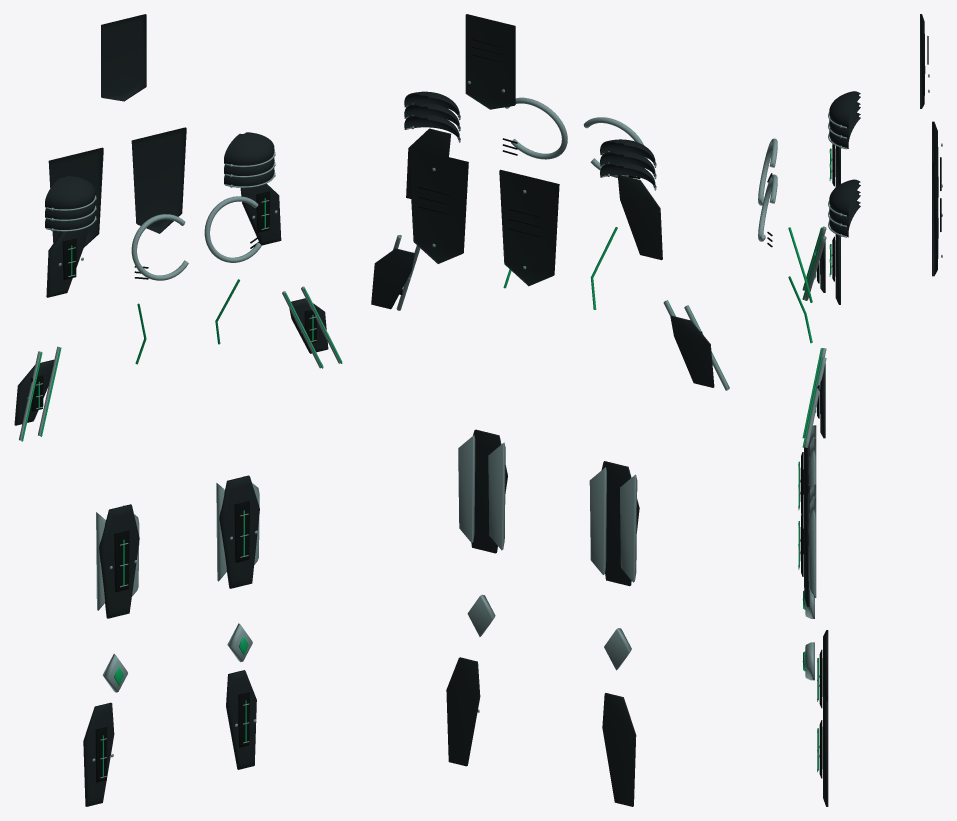
File: Sivra-new-parts.obj
The picture shows the model from 3 angles, left to right: view 1: azimuth 30°, elevation 25°; view 2: azimuth 150°, elevation 25°; view 3: azimuth 270°, elevation 25°; orthographic projection. The views are drawn at different scales.
Size of the model in its own units: 0.6816 by 1.48 by 0.3337.
